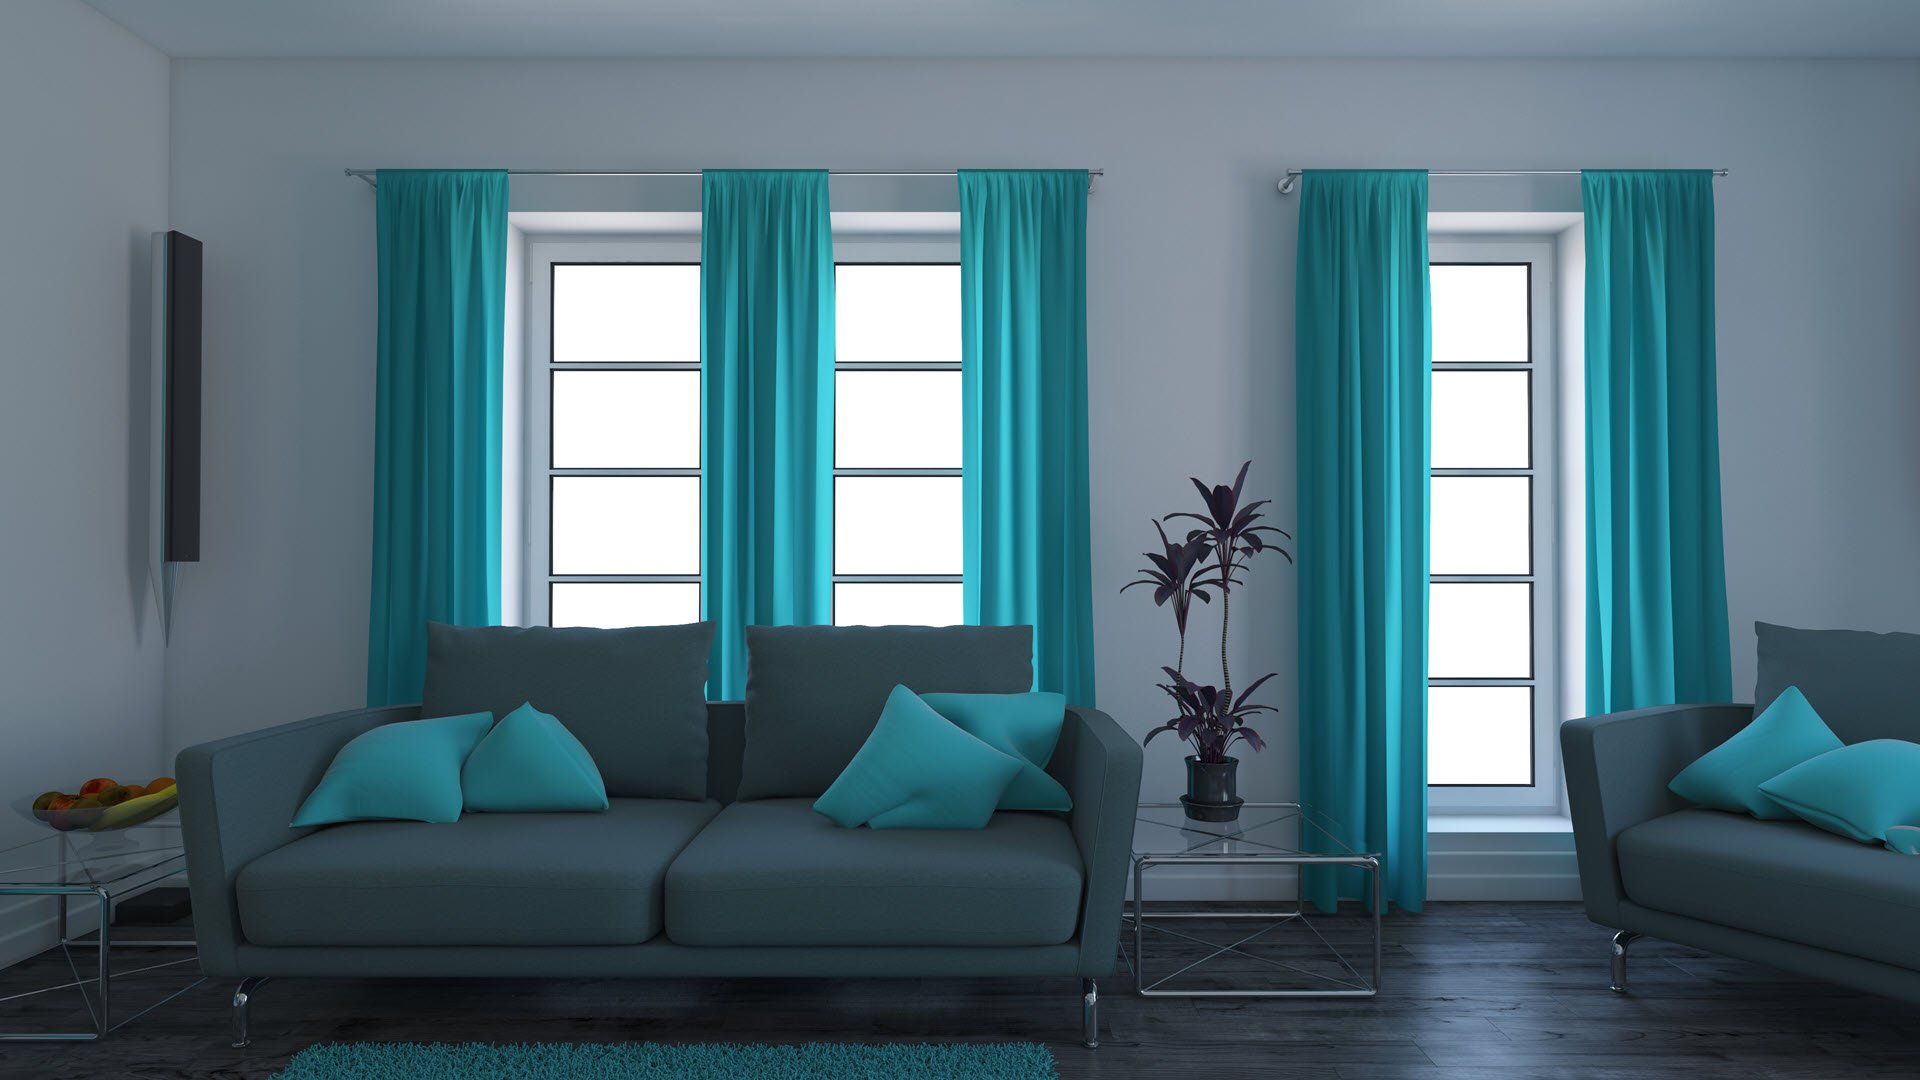side table: (1131, 804, 1390, 1007), (0, 831, 183, 1051)
small plant: (1131, 455, 1283, 824)
sofa: (167, 620, 1150, 1054), (1553, 615, 1920, 1025)
